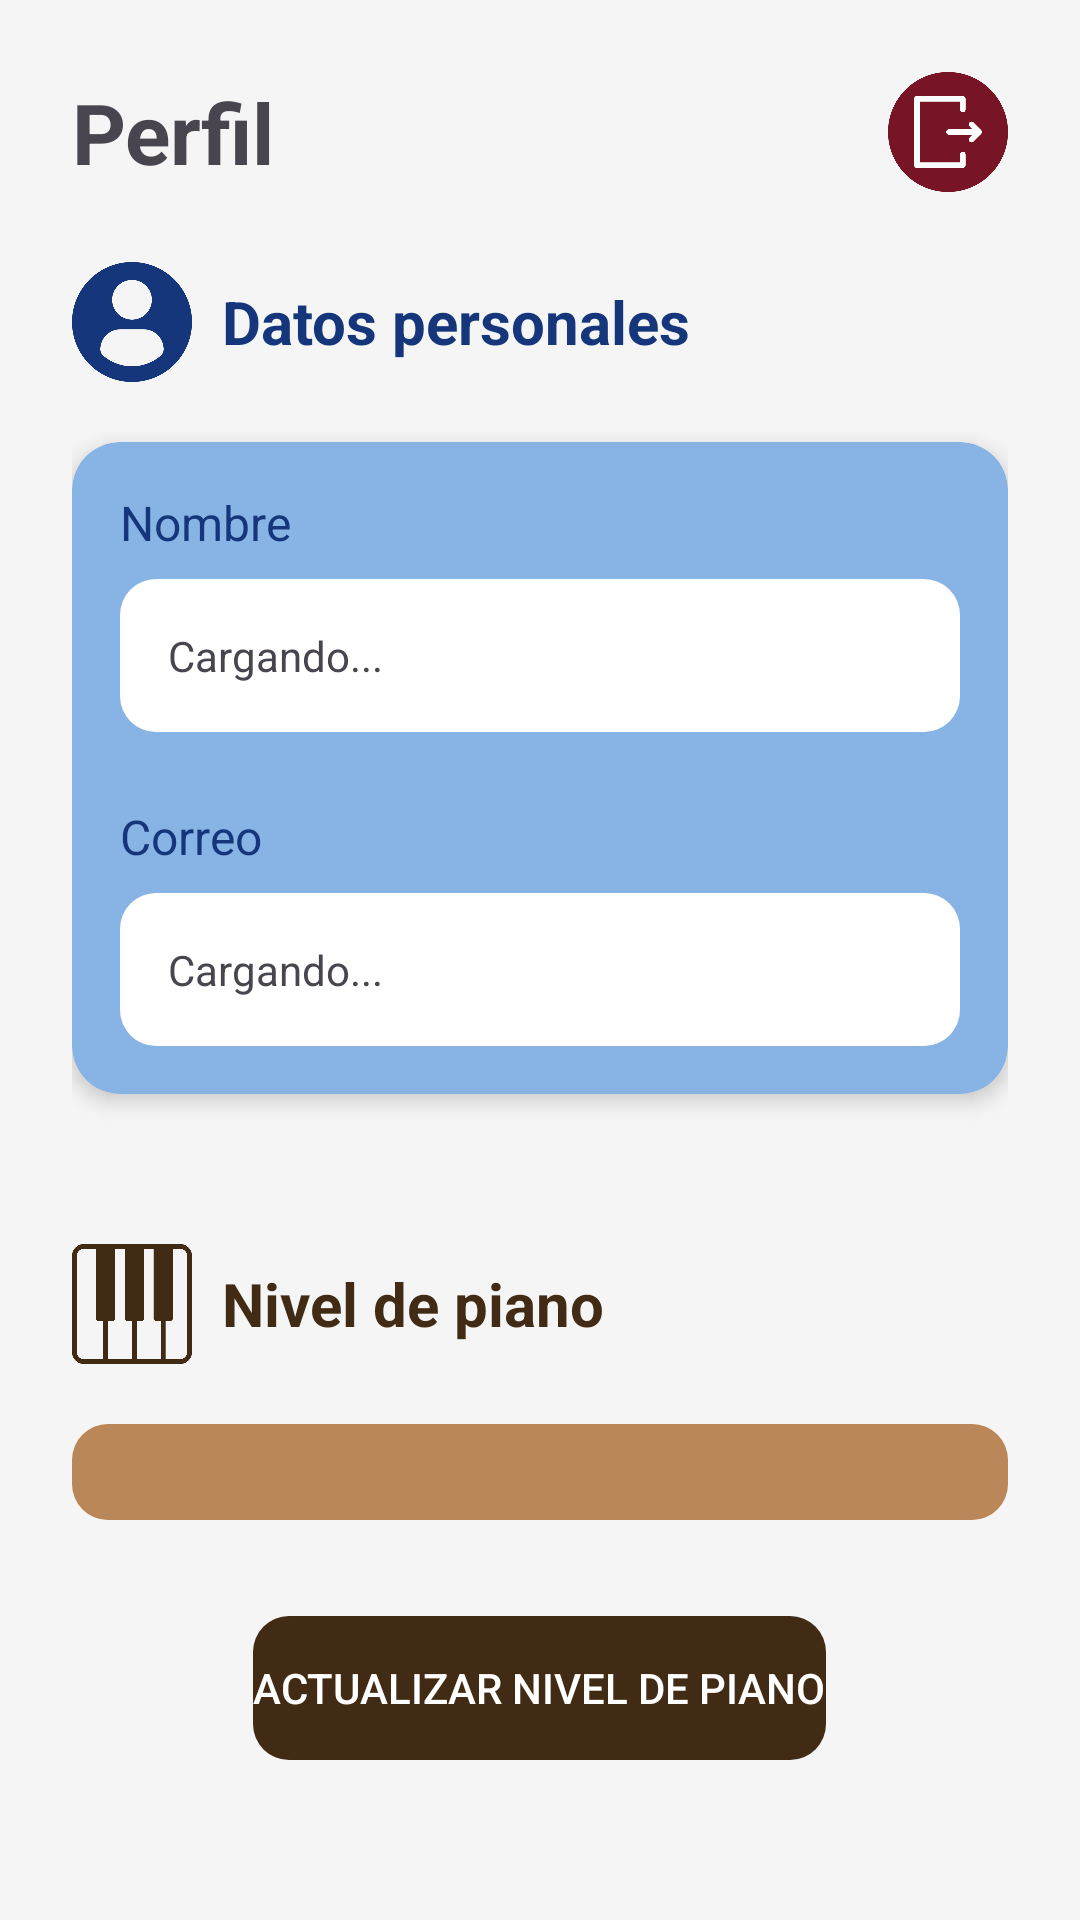

Icons on this 1080x1920 Android screen, each with its box as BBox(x1, y1, x2, y2):
piano brown: BBox(72, 1244, 192, 1364)
profile: BBox(72, 262, 192, 382)
